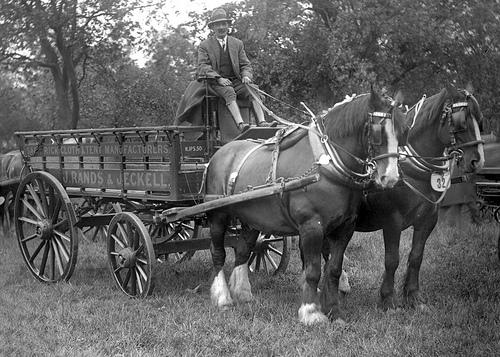horse: (199, 85, 409, 319), (296, 83, 484, 311)
